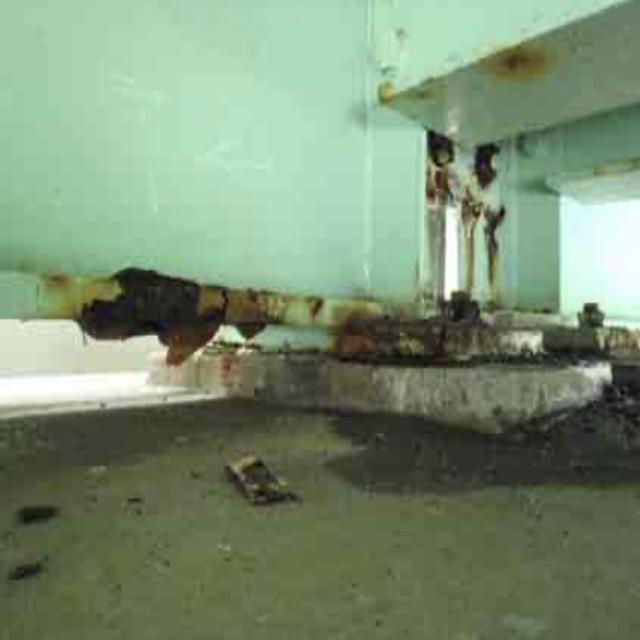corrosion: (67, 40, 539, 376)
